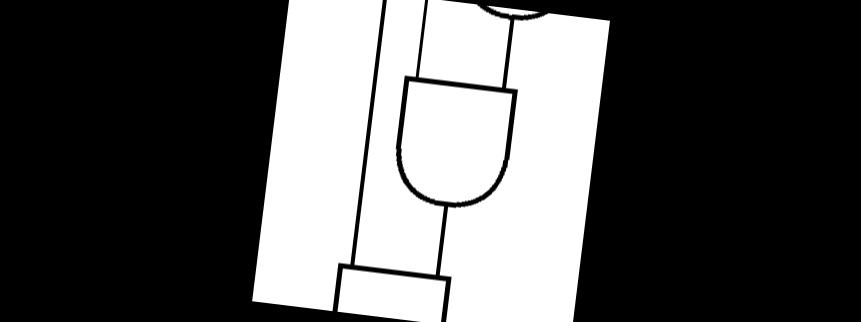and: (376, 56, 538, 239), (322, 249, 460, 322)
